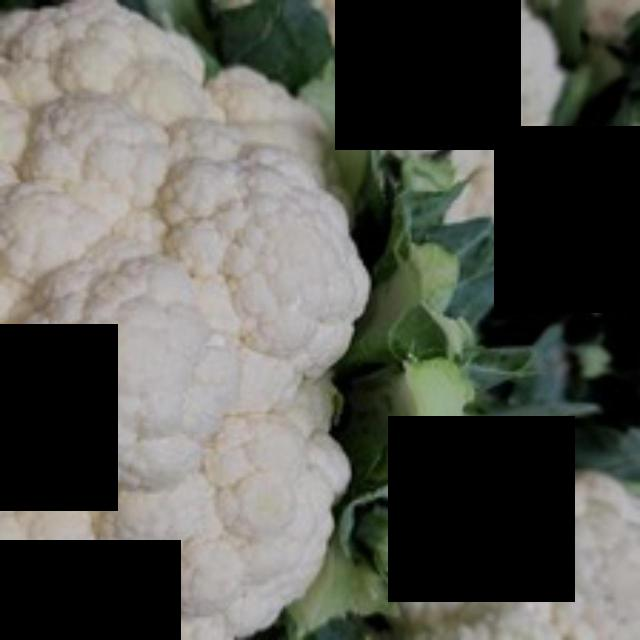cauliflower: (0, 3, 366, 637)
